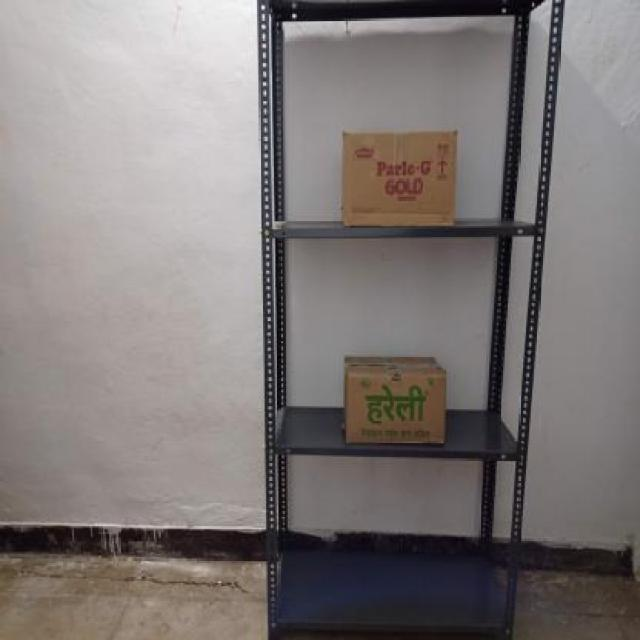box: (340, 129, 454, 228), (345, 372, 447, 445)
